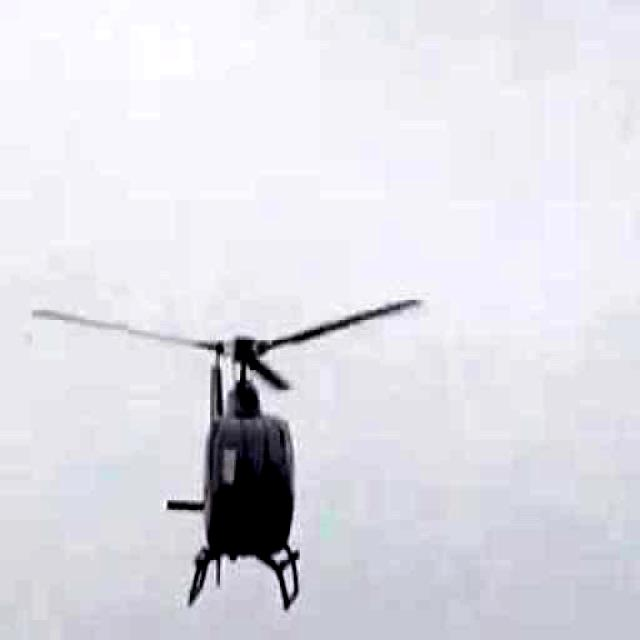drone: (22, 141, 472, 640)
